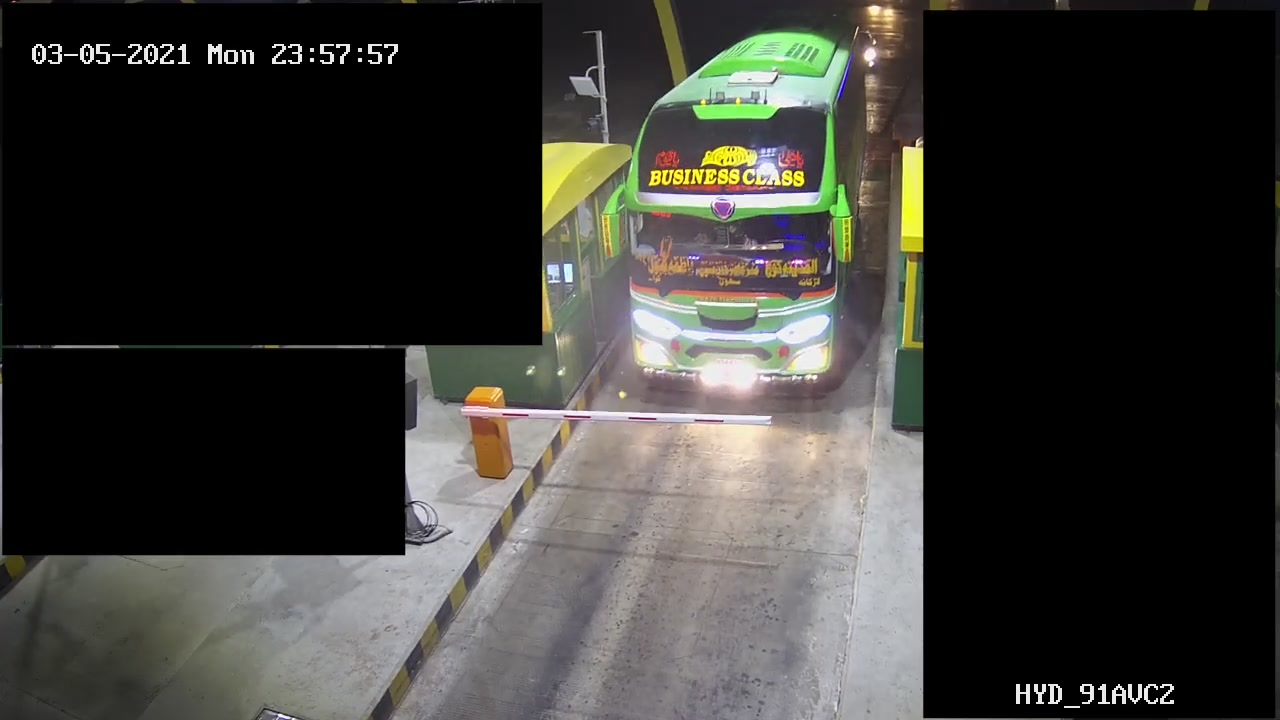F4: (629, 17, 865, 409)
